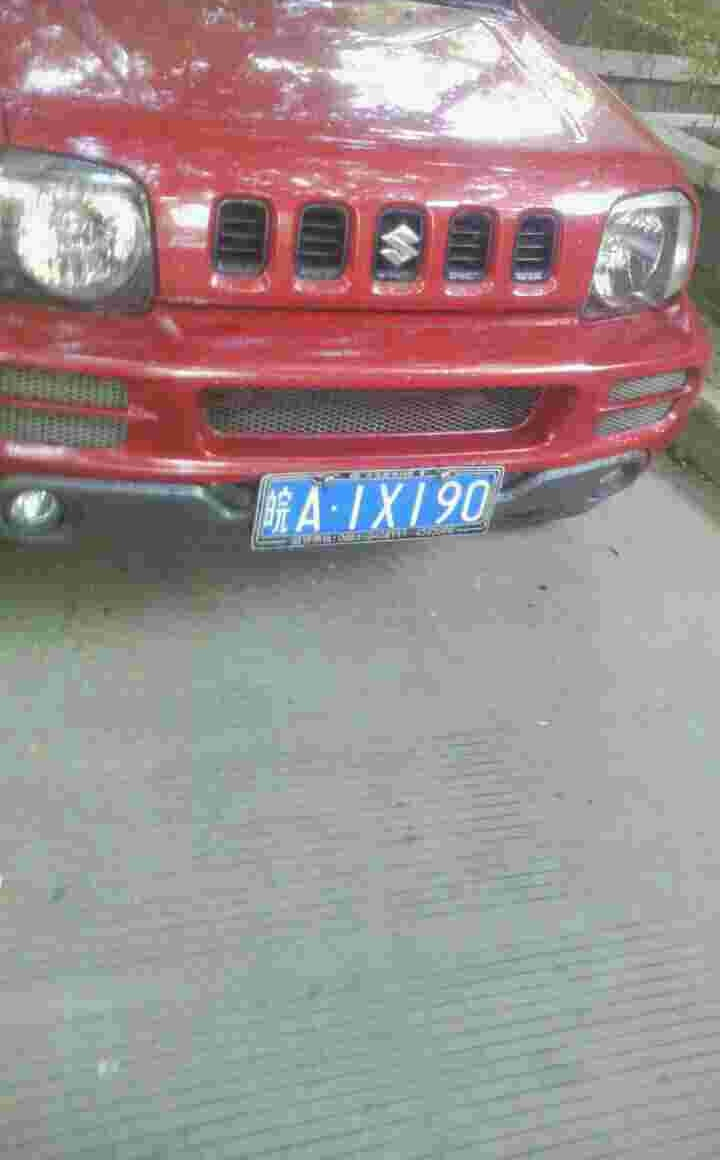license_plate: (272, 465, 486, 540)
